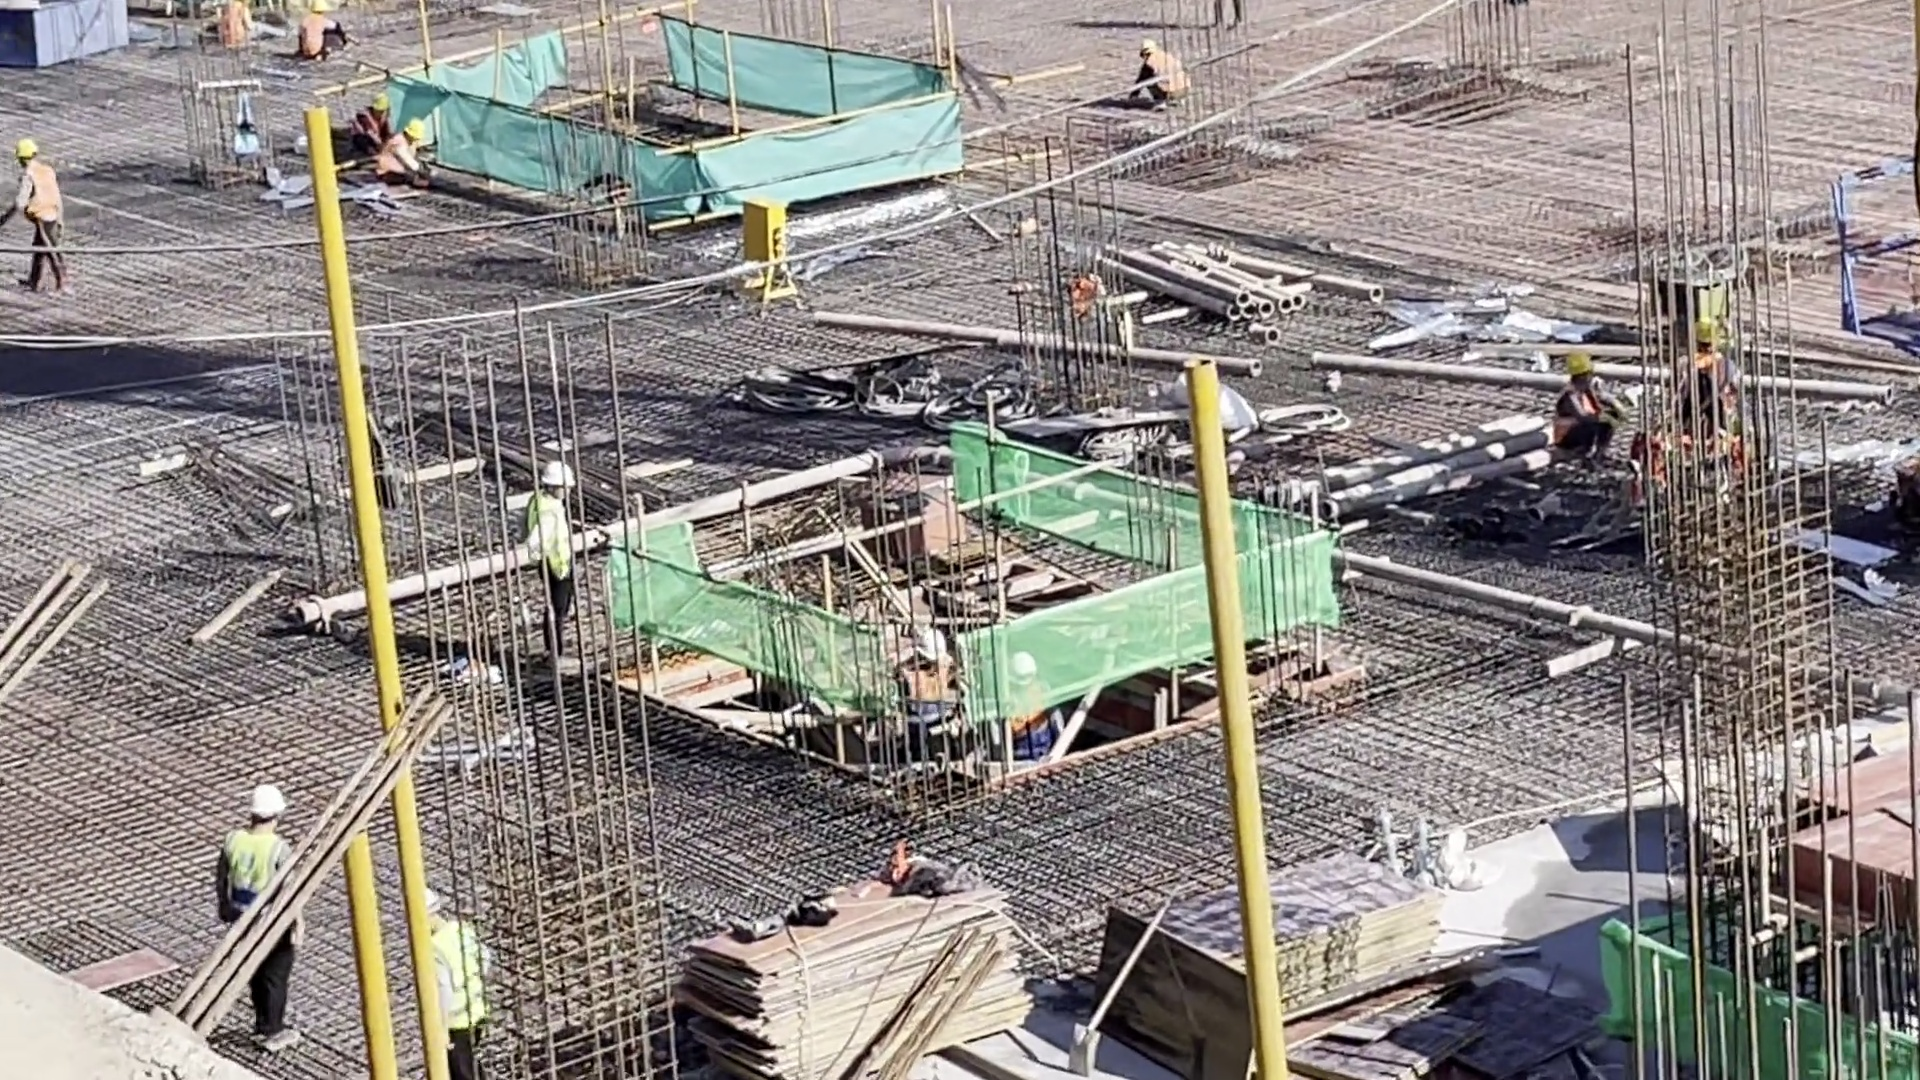helmet: (541, 458, 576, 492), (250, 788, 288, 820), (402, 119, 426, 148), (1566, 348, 1593, 372), (309, 1, 332, 20), (370, 92, 396, 109), (16, 138, 35, 158)
person: (208, 781, 314, 1056), (406, 890, 485, 1039), (525, 458, 583, 658), (6, 135, 75, 303), (1537, 342, 1625, 466), (999, 645, 1062, 769), (898, 622, 955, 729), (1131, 36, 1196, 105), (378, 121, 433, 191), (291, 1, 351, 63), (216, 1, 288, 52), (352, 97, 394, 152), (1214, 1, 1243, 33)
vest: (425, 926, 487, 1032), (221, 830, 284, 907), (525, 499, 572, 591), (21, 163, 64, 234), (1556, 389, 1602, 453), (1141, 56, 1186, 99), (298, 15, 325, 58), (220, 1, 249, 40)
